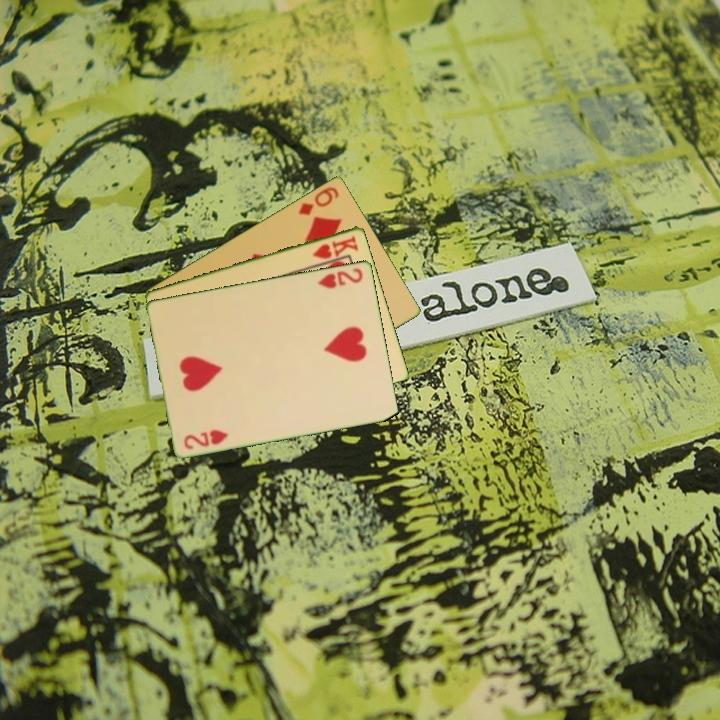2h: (314, 264, 366, 291), (180, 426, 232, 452)
6d: (294, 183, 342, 218)
Kh: (309, 232, 361, 262)
